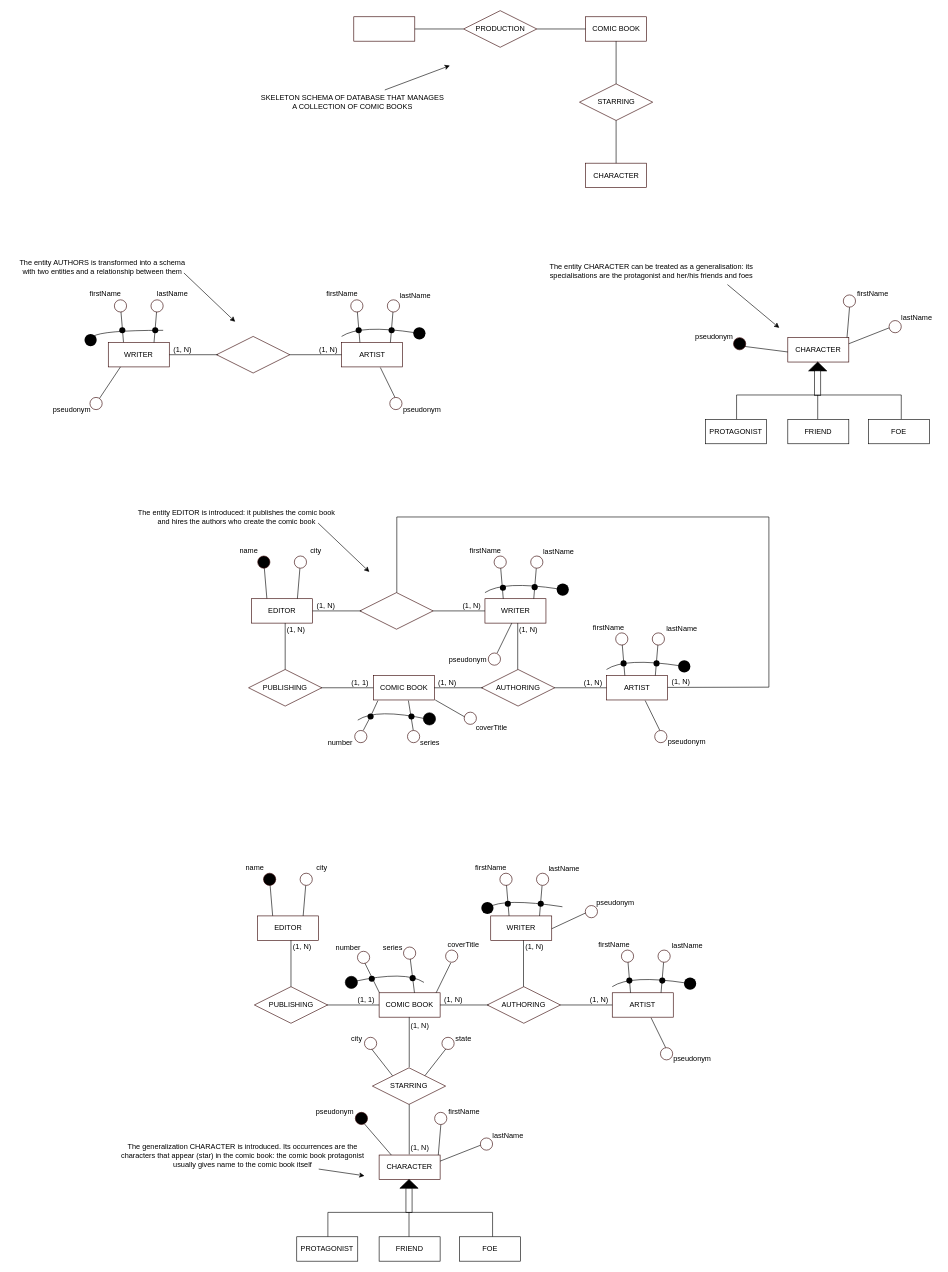
Image size: 948x1272. Some labels were removed from this diagram. Each missing label, with the centre of its shape:
AUTHORS: the point at 384,28
CO-AUTHORING: the point at 253,354
HIRING: the point at 396,610
